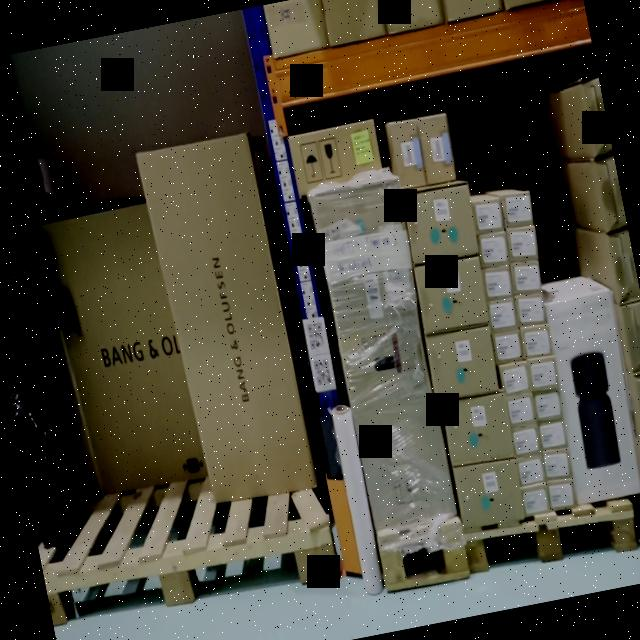box: (148, 134, 314, 502), (20, 203, 200, 497), (313, 184, 457, 533), (545, 292, 640, 504), (288, 120, 386, 196), (402, 183, 480, 262), (416, 258, 490, 332), (442, 392, 514, 468), (426, 328, 499, 399), (454, 460, 526, 530), (417, 115, 455, 182), (390, 120, 426, 188), (500, 192, 534, 228), (472, 196, 504, 234), (478, 235, 510, 268), (520, 324, 552, 356), (500, 363, 530, 397), (511, 262, 542, 293), (514, 292, 544, 324), (484, 267, 512, 301), (548, 478, 577, 510), (508, 227, 536, 260), (529, 358, 556, 392), (516, 456, 546, 486), (494, 331, 523, 361), (488, 302, 518, 330), (512, 424, 540, 454), (508, 396, 536, 425), (543, 451, 572, 479), (533, 392, 562, 420), (538, 420, 566, 448), (522, 489, 550, 515)
